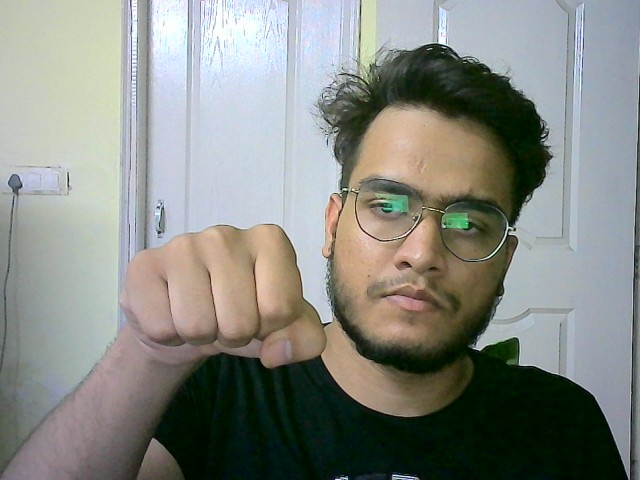Yes: (101, 215, 334, 383)
